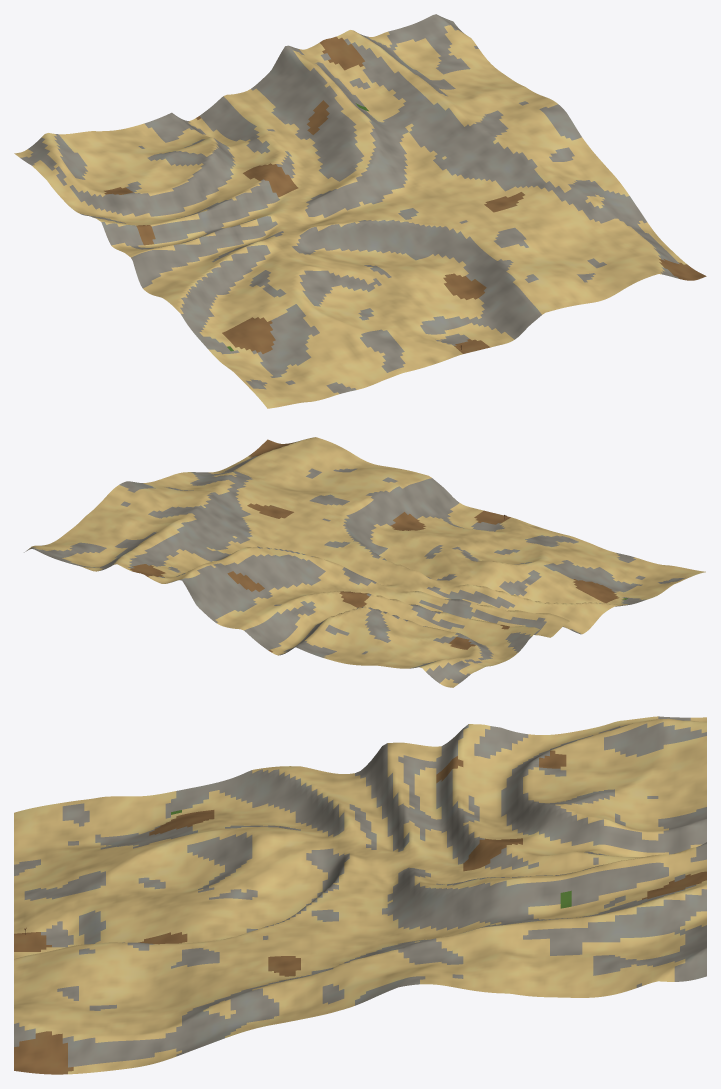
The model's file is chunk_7_4.glb.
3 views of the same model, one above another, from view 1: azimuth 30°, elevation 25°; view 2: azimuth 150°, elevation 25°; view 3: azimuth 270°, elevation 25° (orthographic). The views are drawn at different scales.
Visible parts, largest first — view 1: Surface_Sand, Surface_Gravel, Surface_Dirt; view 2: Surface_Sand, Surface_Gravel, Surface_Dirt; view 3: Surface_Sand, Surface_Gravel, Surface_Dirt.
Boxes of the visible parts, left/top/right/bottom form: Surface_Sand: left=14, top=25, right=686, bottom=408; Surface_Gravel: left=20, top=14, right=679, bottom=393; Surface_Dirt: left=104, top=36, right=706, bottom=353; Surface_Sand: left=28, top=437, right=705, bottom=687; Surface_Gravel: left=24, top=441, right=685, bottom=683; Surface_Dirt: left=129, top=439, right=619, bottom=652; Surface_Sand: left=14, top=716, right=706, bottom=1074; Surface_Gravel: left=14, top=716, right=706, bottom=1067; Surface_Dirt: left=14, top=750, right=706, bottom=1074.
Size of the model in its own units: 256 by 64.27 by 256.
